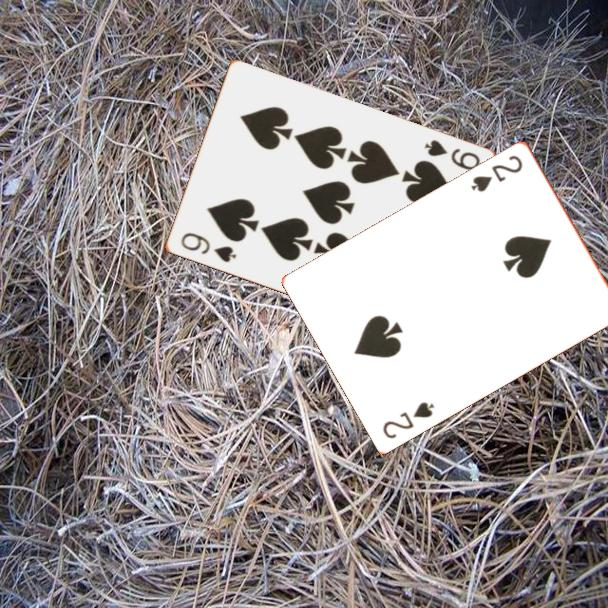s02: (467, 151, 526, 194), (379, 398, 438, 441)
s09: (421, 136, 482, 174), (177, 229, 239, 266)
